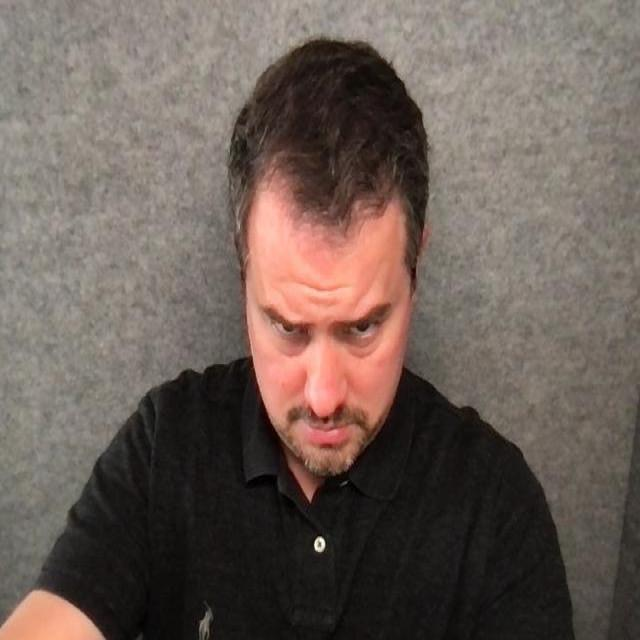face: (228, 39, 434, 481)
